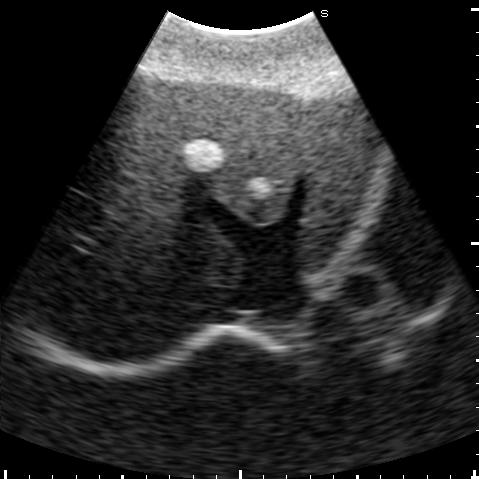S2: (299, 95, 376, 270)
S4: (110, 74, 303, 225)
S7: (32, 238, 190, 358)
S8: (69, 143, 239, 288)
Tumor: (183, 137, 225, 173), (249, 178, 272, 197)
